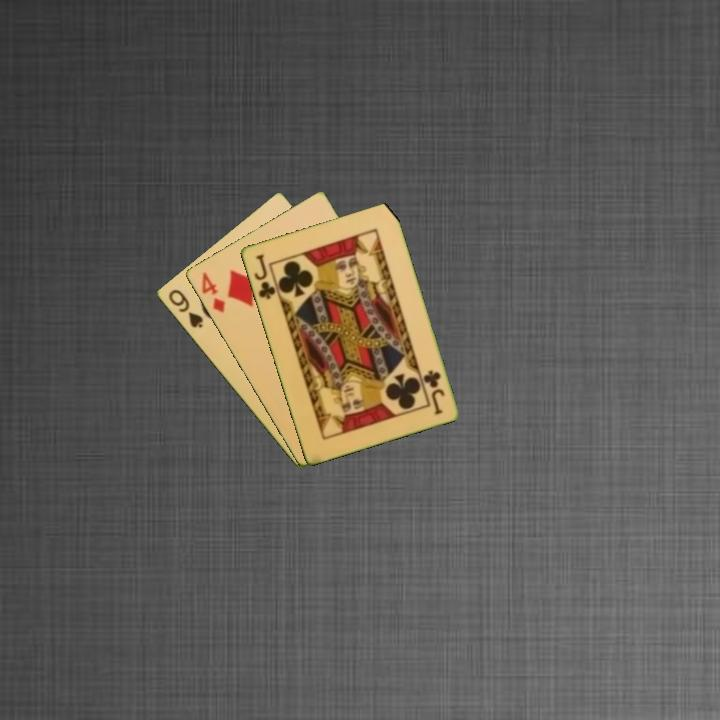4d: (198, 268, 228, 316)
9s: (165, 286, 206, 331)
Jc: (250, 250, 278, 302), (420, 366, 447, 417)
